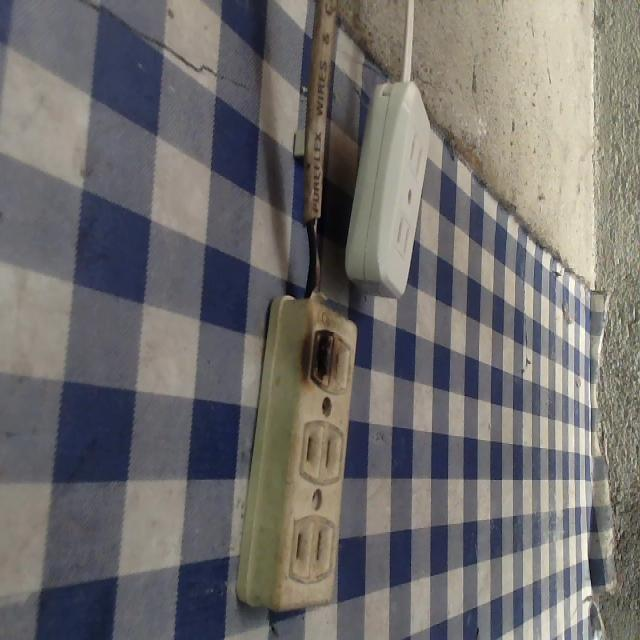-: (303, 315, 340, 392)
